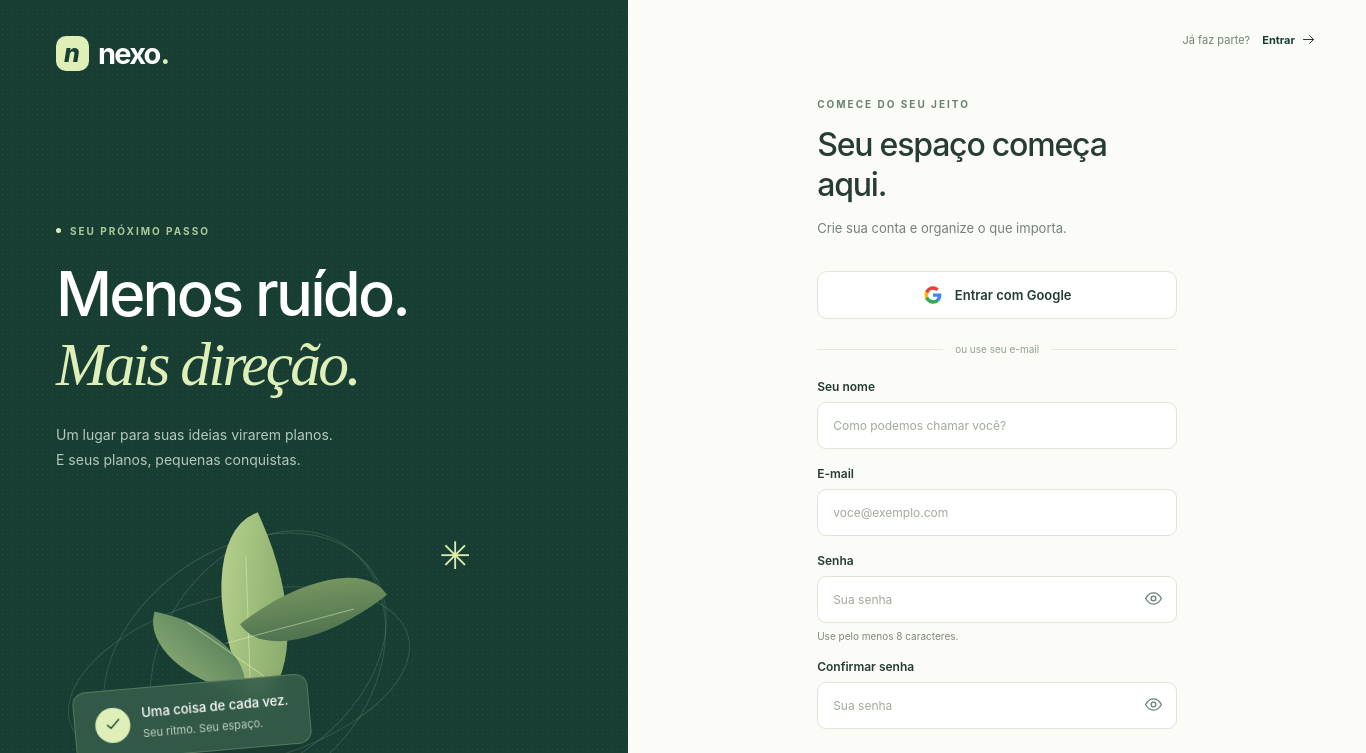
it: interfaces de autenticação › explica a confirmação de e-mail sem tratar cadastro sem sessão como login
The width and height of the screenshot is (1366, 753).
Type "Aluno Teste" into the field labelled "Seu nome".
click(997, 425); type("Aluno Teste")  # box [817,402,1177,449]
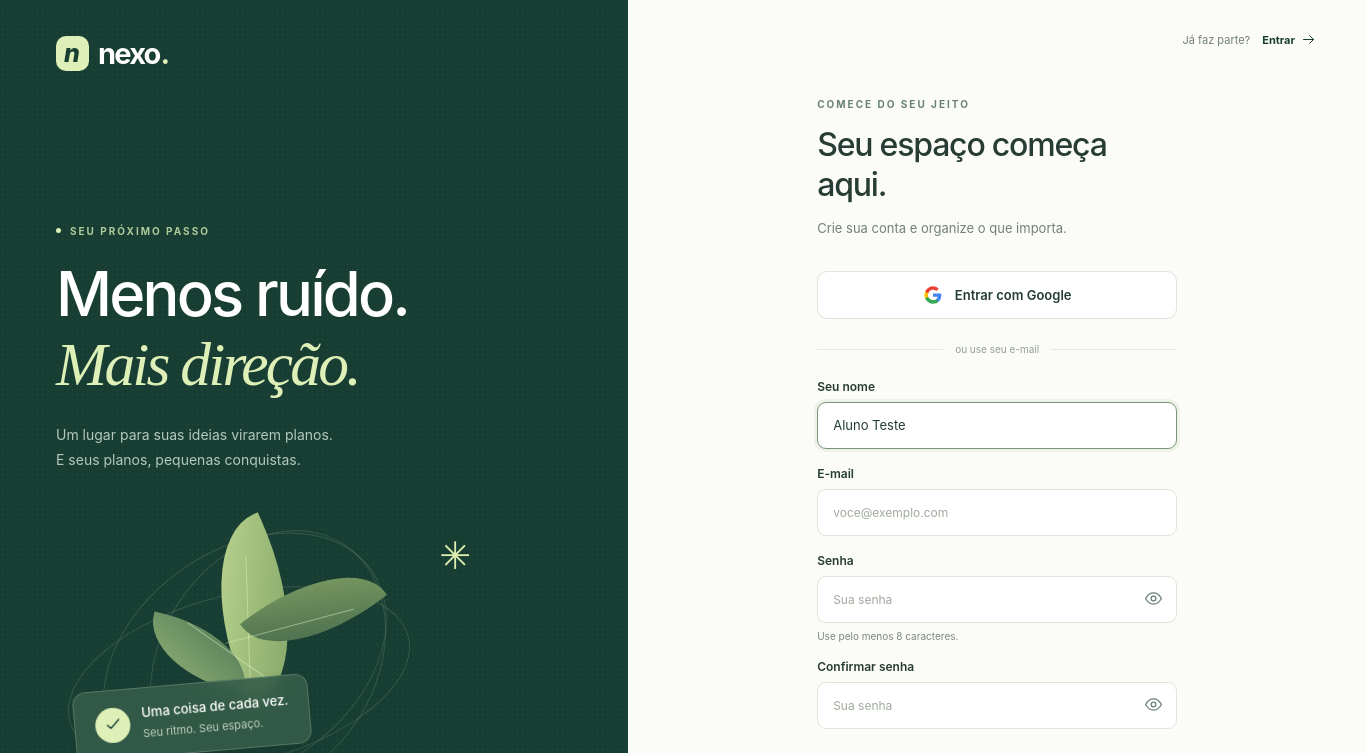
Type "aluno@example.com" into the field labelled "E-mail".
click(997, 512); type("aluno@example.com")  # box [817,489,1177,536]
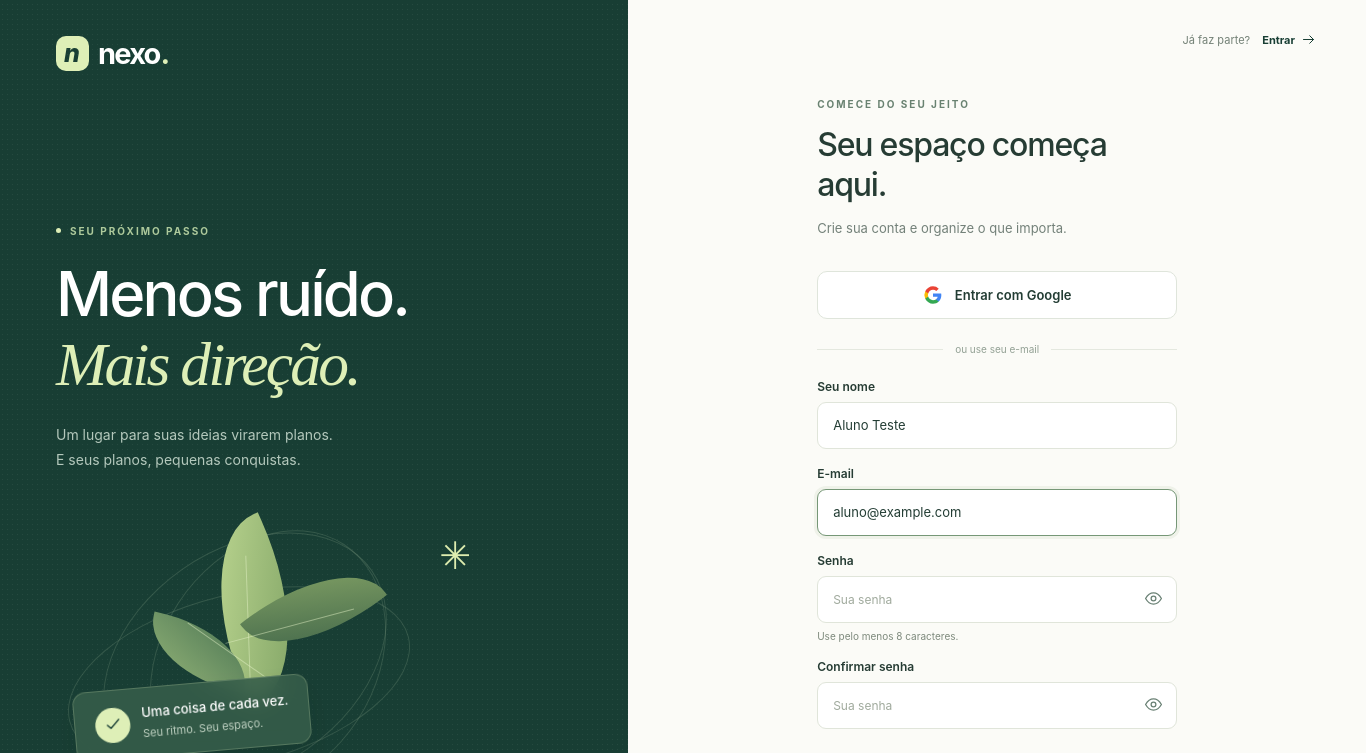
Type "senha12345" into the password field labelled "Senha".
click(997, 599); type("senha12345")  # box [817,576,1177,623]
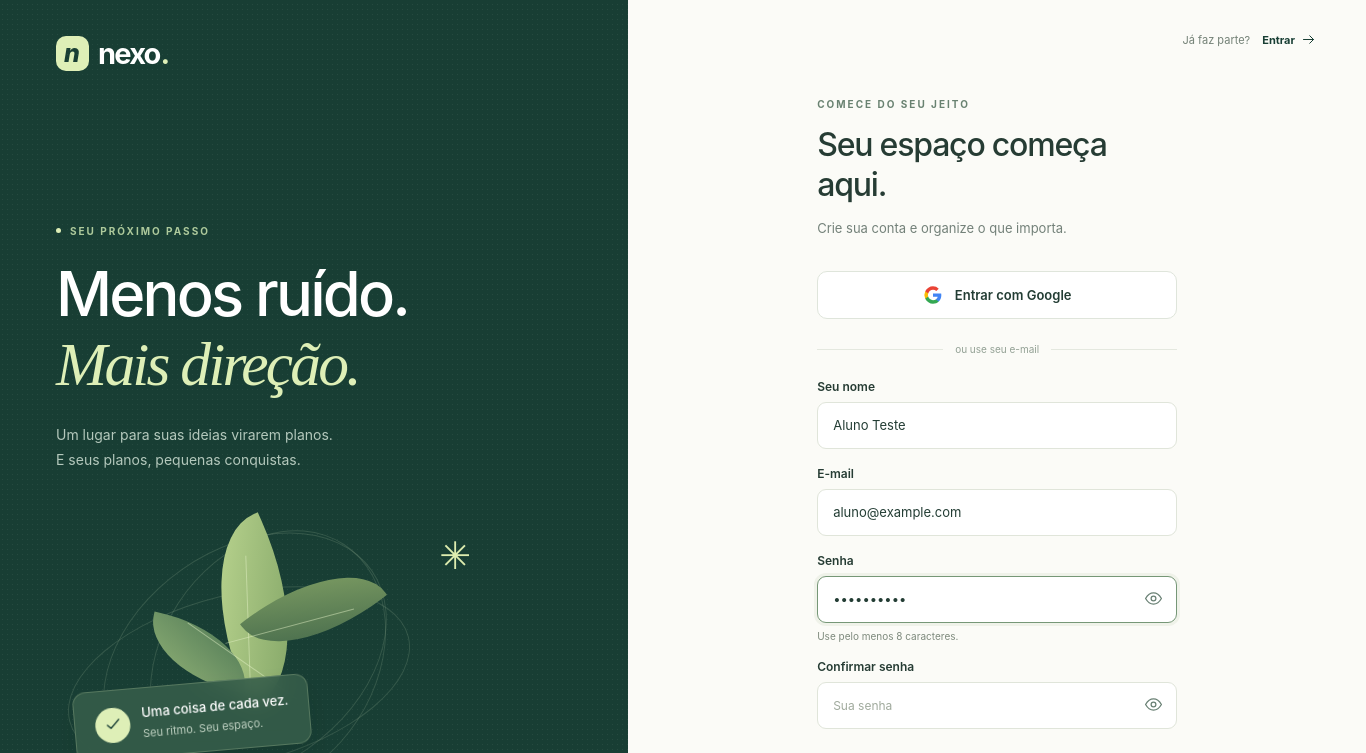
Type "senha12345" into the password field labelled "Confirmar senha".
click(997, 705); type("senha12345")  # box [817,682,1177,729]
(page scrolled)
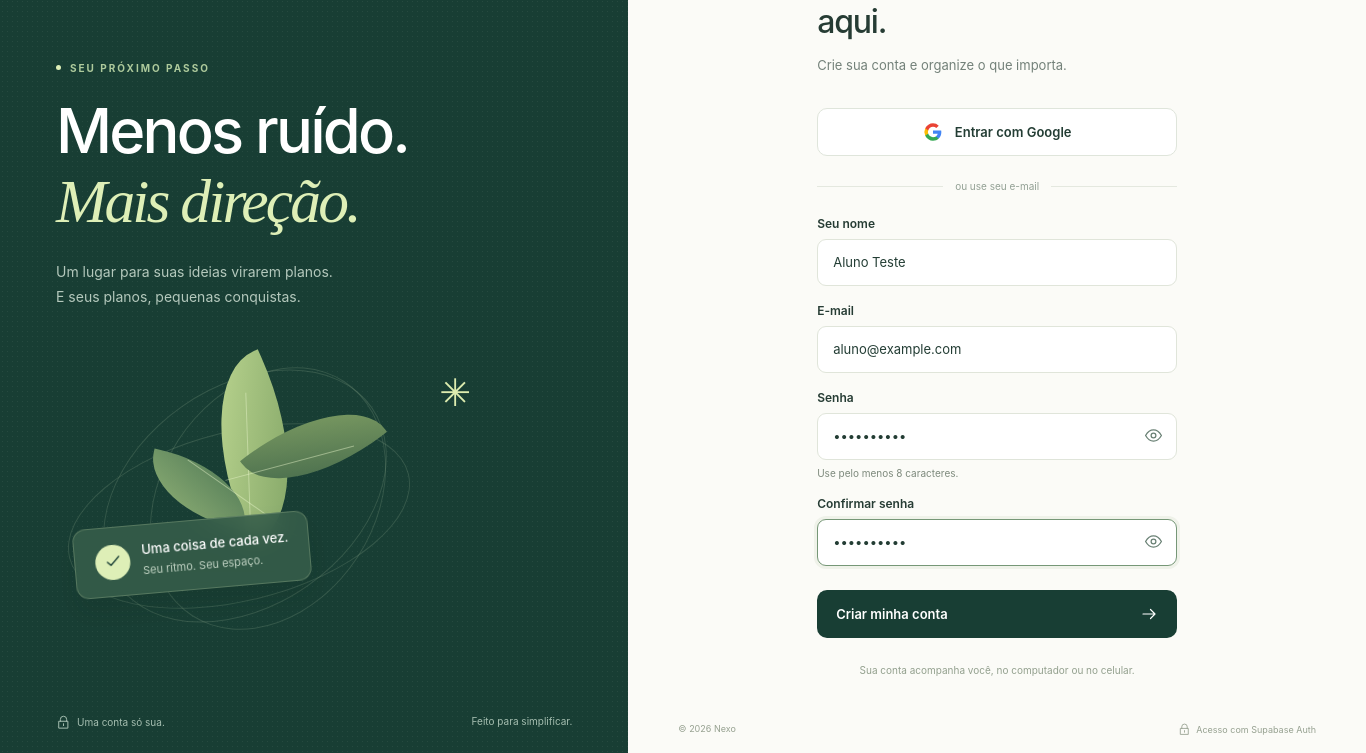
Click the button "Criar minha conta".
click(892, 614)  # box [817,590,1177,638]
(page scrolled)
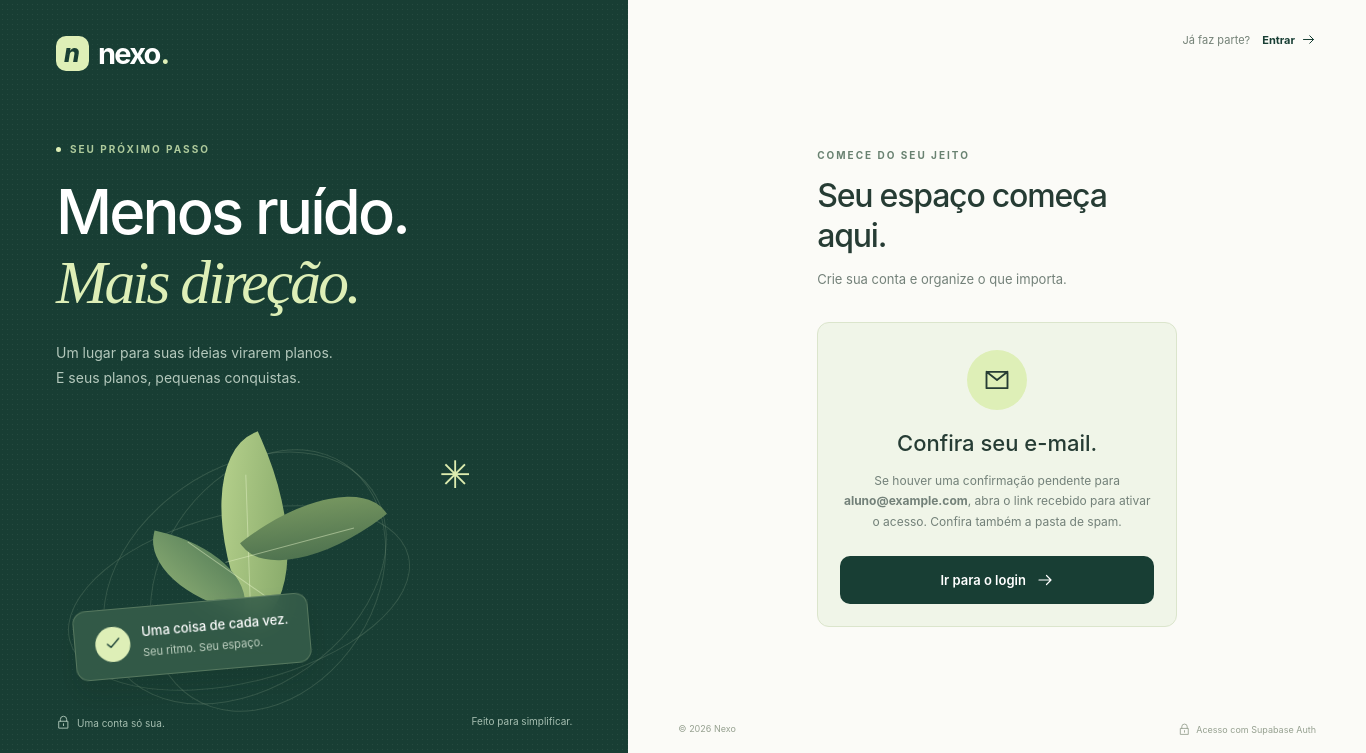
Expected: the heading "Confira seu e-mail." is shown, [897,430,1097,456]
